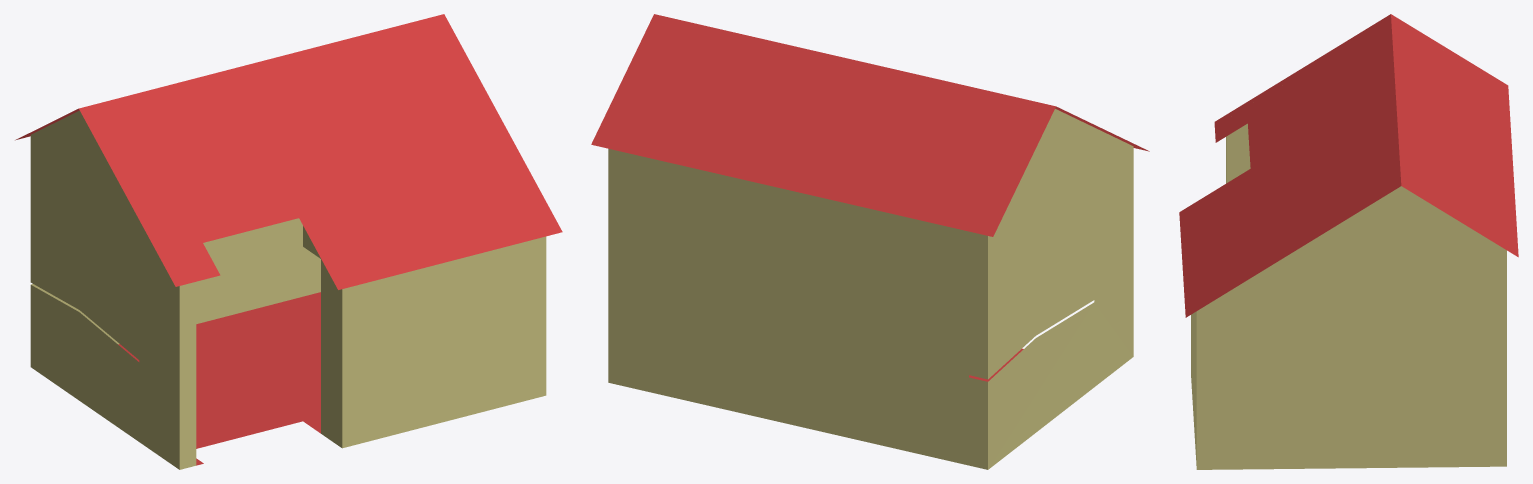
3 renders of one model, left to right at view 1: azimuth 30°, elevation 25°; view 2: azimuth 150°, elevation 25°; view 3: azimuth 270°, elevation 25°, orthographic. The views are drawn at different scales.
Size of the model in its own units: 18.33 by 14.97 by 13.94.
